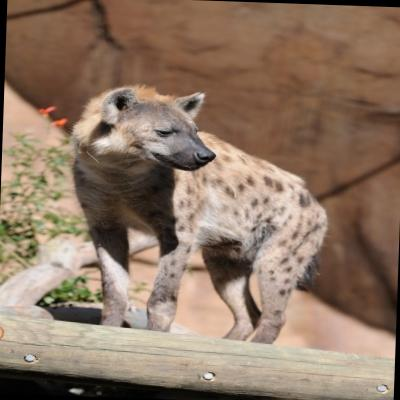hyenas: (9, 74, 343, 364)
